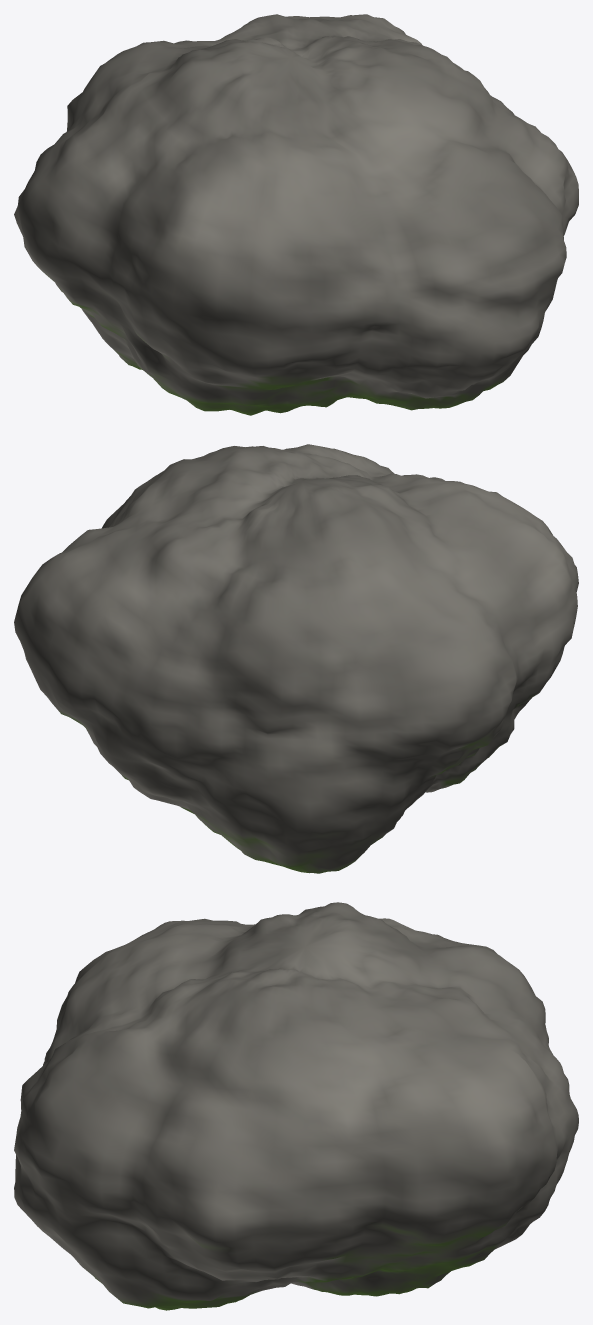
Rendered from SM_Boulder.fbx.
The picture shows the model from 3 angles, top to bottom: view 1: azimuth 30°, elevation 25°; view 2: azimuth 150°, elevation 25°; view 3: azimuth 270°, elevation 25°; orthographic projection. The views are drawn at different scales.
Visible parts, largest first — view 1: SM_Boulder; view 2: SM_Boulder; view 3: SM_Boulder.
Boxes of the visible parts, x1,y1,x2,y2 form: SM_Boulder: (14,14,578,415); SM_Boulder: (14,444,578,873); SM_Boulder: (14,902,578,1310).
Size of the model in its own units: 7.86 by 5.51 by 7.99.
